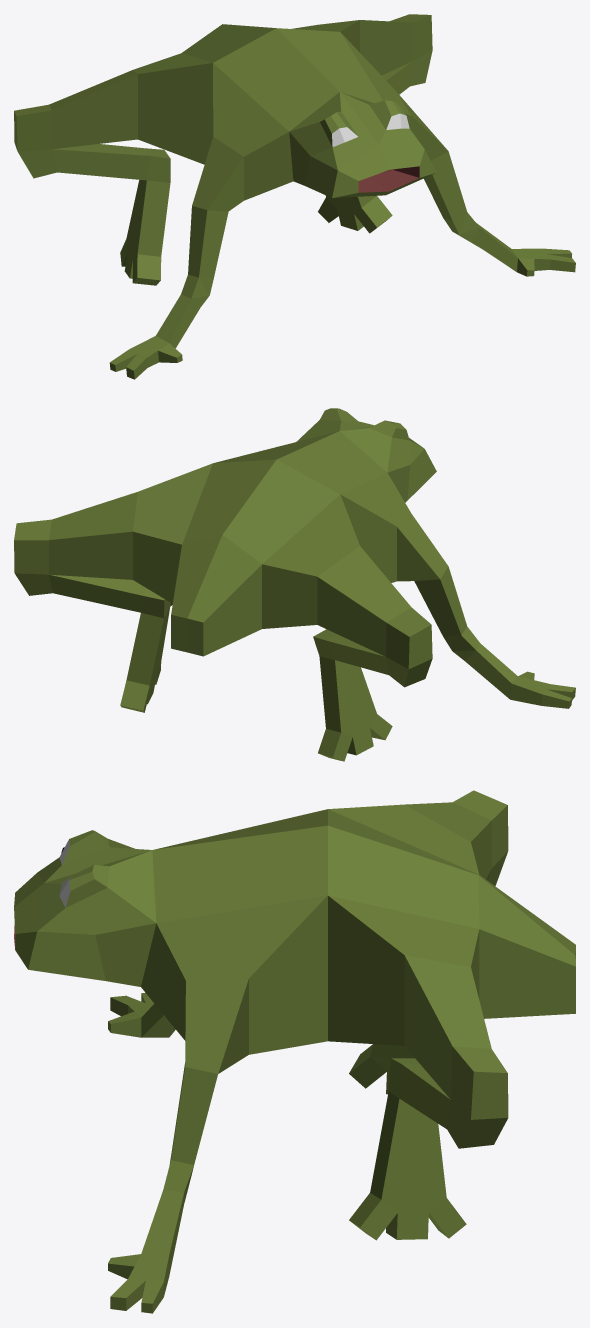
Rendered from froggy.glb.
3 views of the same model, one above another, from view 1: azimuth 30°, elevation 25°; view 2: azimuth 150°, elevation 25°; view 3: azimuth 270°, elevation 25° (orthographic). The views are drawn at different scales.
Parts seen in each view (by area): view 1: Cube; view 2: Cube; view 3: Cube.
Boxes of the visible parts, x1,y1,x2,y2 form: Cube: [14, 14, 575, 379]; Cube: [14, 408, 575, 761]; Cube: [14, 790, 575, 1313].
Bounding box in the file's own units: 7.9 × 4.05 × 6.02.
